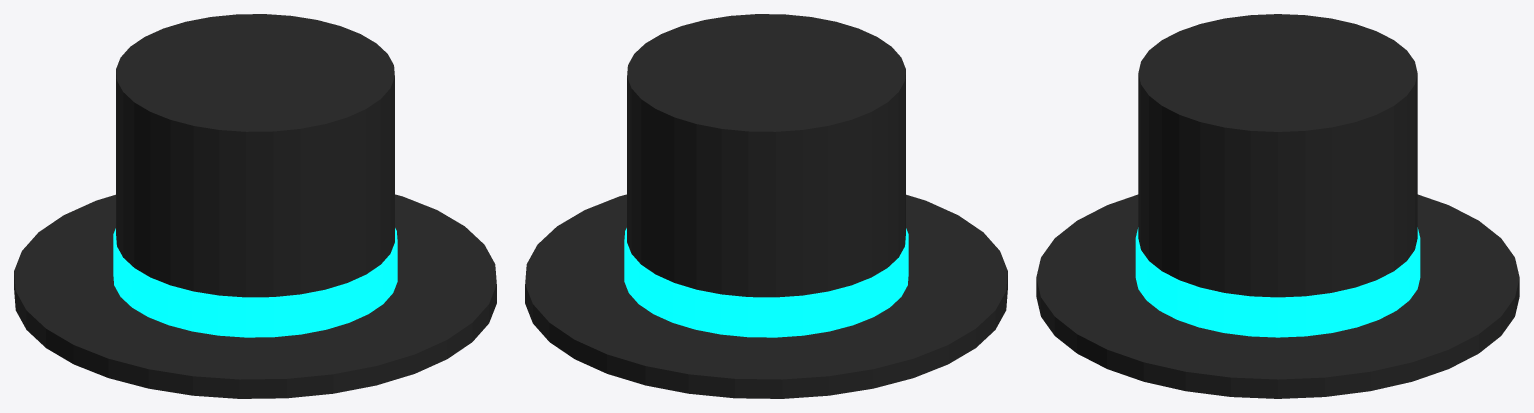
The model's file is SM_Darrell_Equalizer_Hat.glb.
3 renders of one model, left to right at view 1: azimuth 30°, elevation 25°; view 2: azimuth 150°, elevation 25°; view 3: azimuth 270°, elevation 25°, orthographic.
Parts seen in each view (by area): view 1: SM_Darrell_Equalizer_Hat; view 2: SM_Darrell_Equalizer_Hat; view 3: SM_Darrell_Equalizer_Hat.
Boxes of the visible parts, x1,y1,x2,y2 form: SM_Darrell_Equalizer_Hat: [14, 14, 496, 398]; SM_Darrell_Equalizer_Hat: [525, 14, 1007, 398]; SM_Darrell_Equalizer_Hat: [1036, 14, 1519, 398].
Size of the model in its own units: 0.9 by 0.46 by 0.9.
